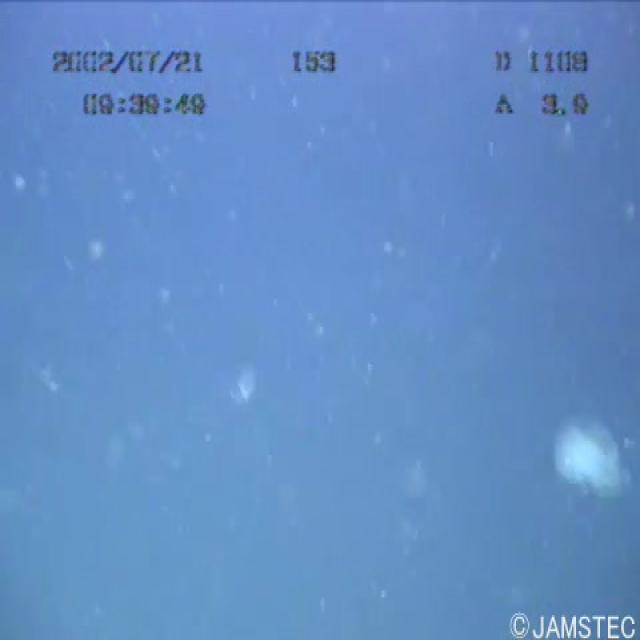plastic: (540, 400, 639, 500)
